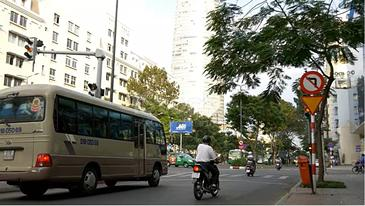bus: (0, 74, 176, 197)
motorcycle: (184, 148, 224, 203), (239, 156, 257, 178)
